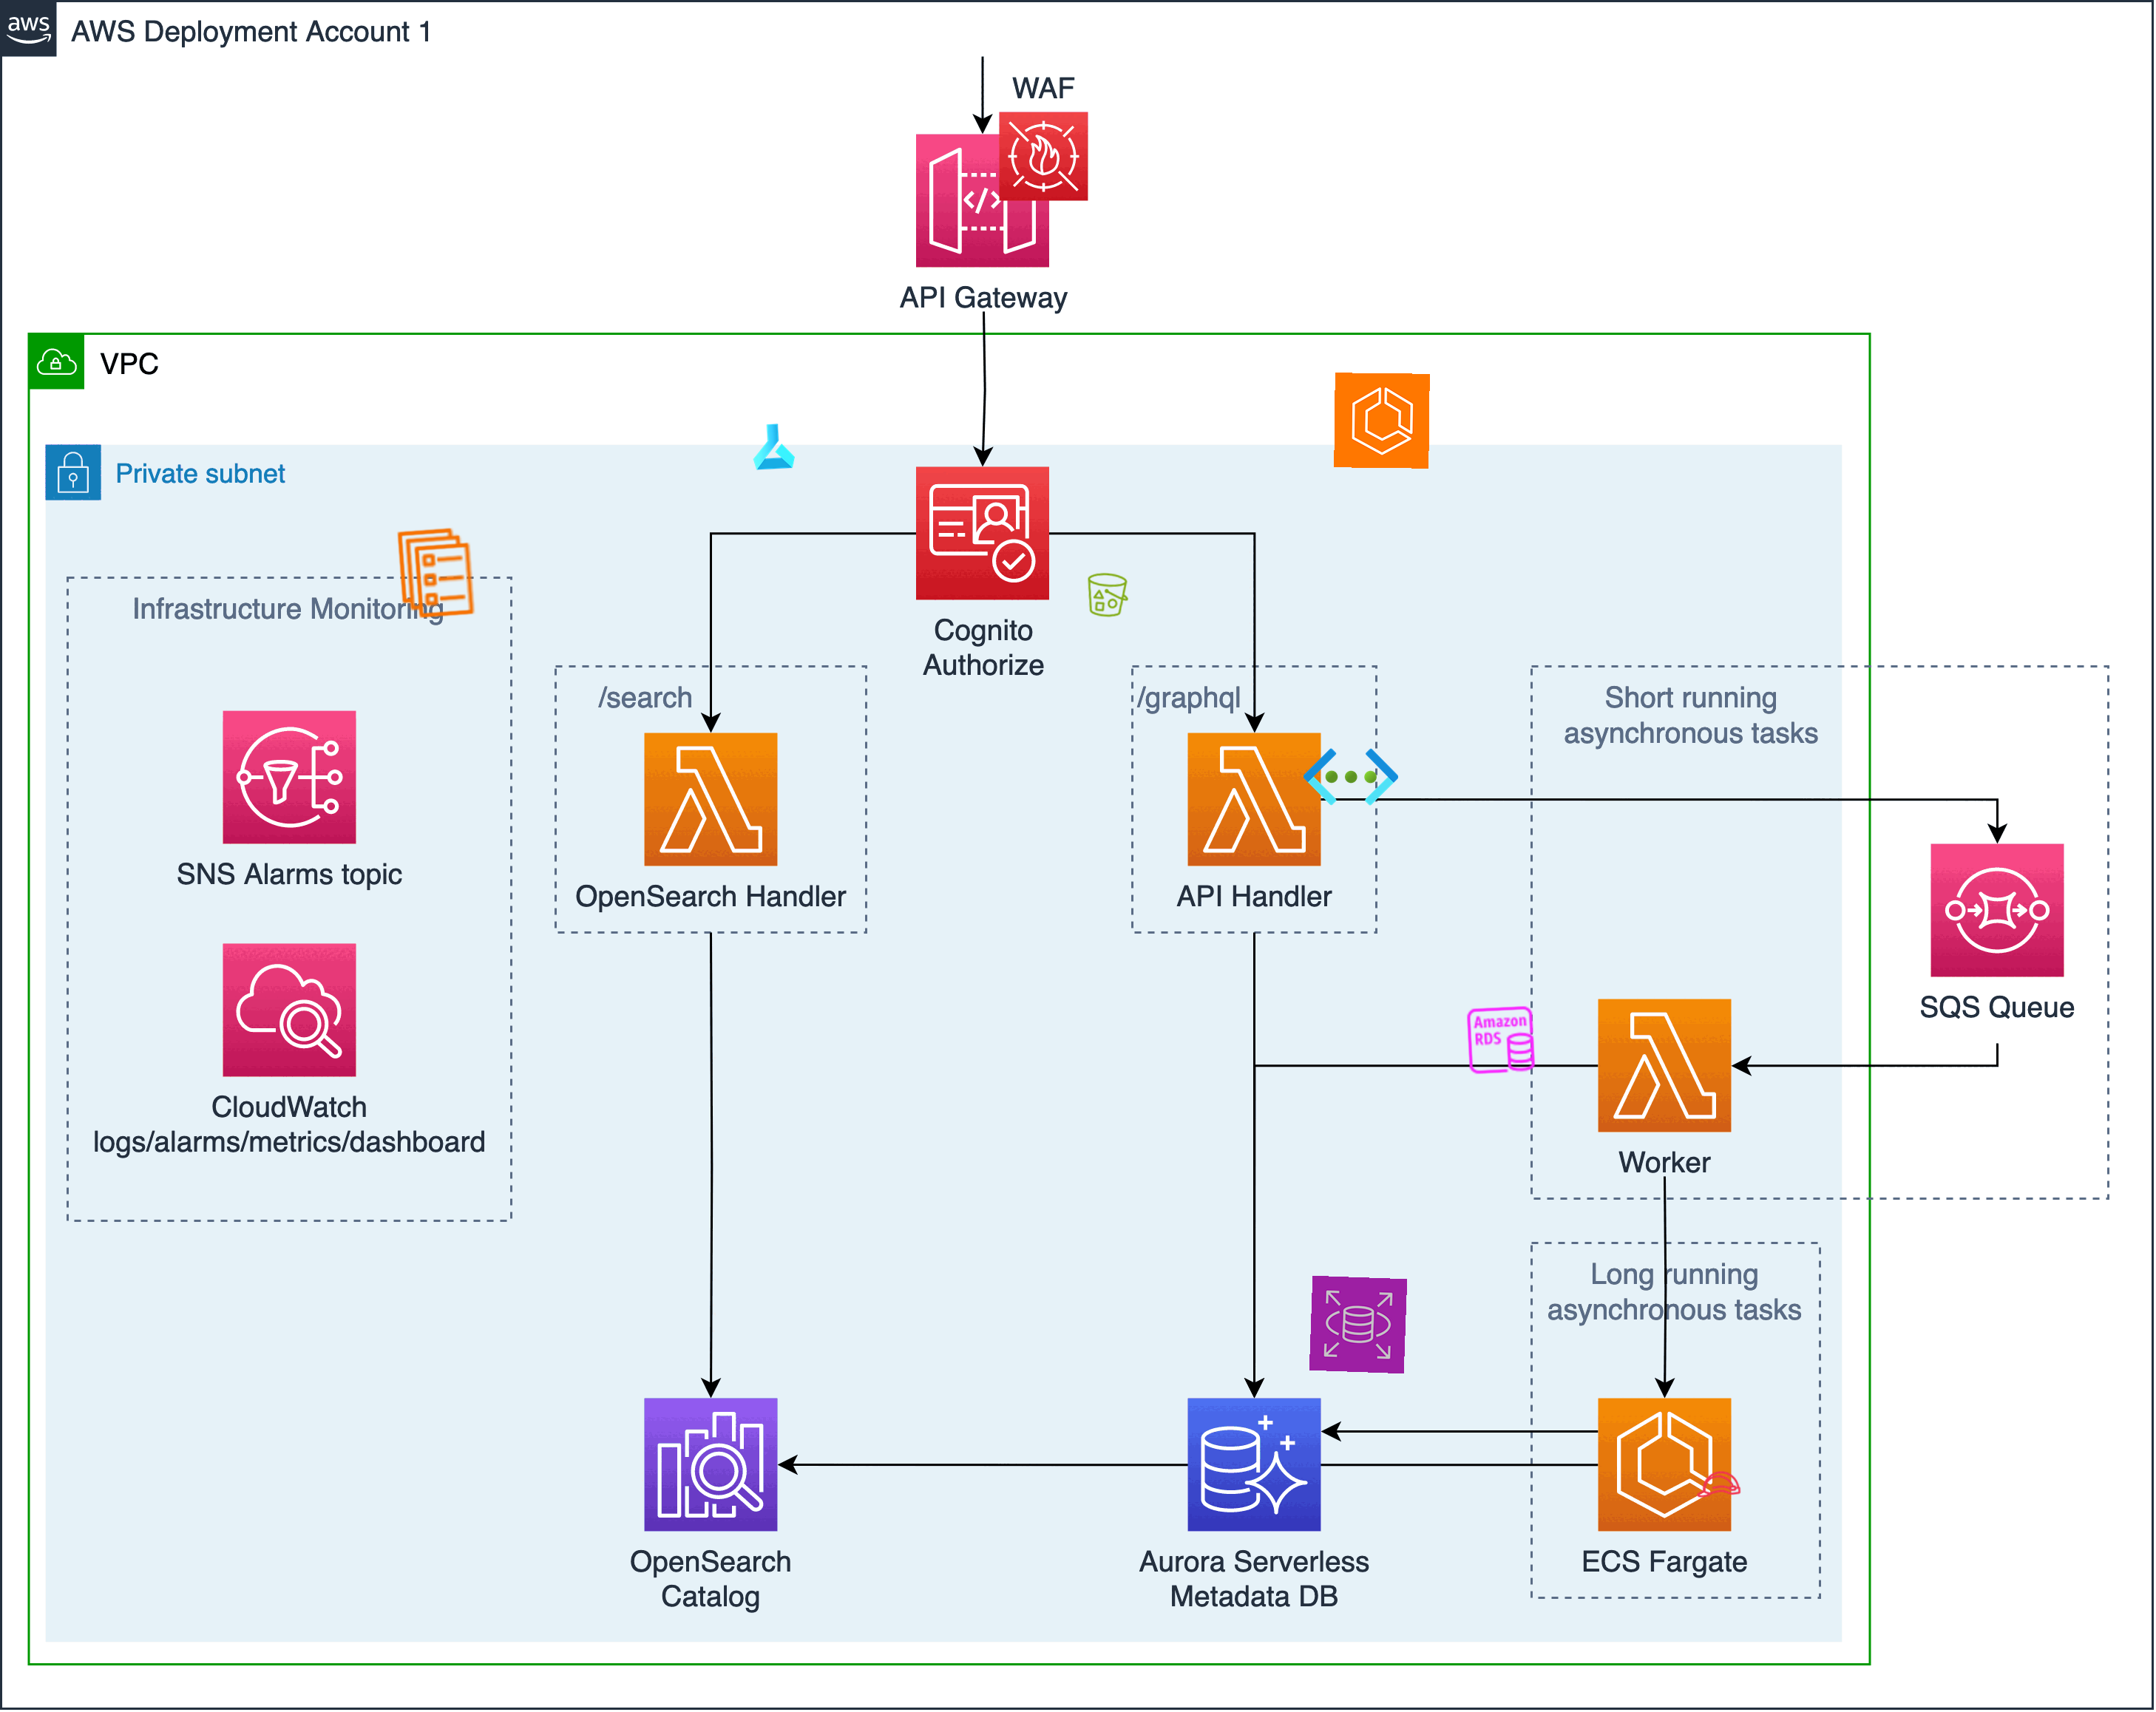aws_amazon_elastic_container_service: (1333, 372, 1430, 469)
aws_amazon_rds: (1309, 1275, 1407, 1374)
aws_aurora_amazon_rds_instance: (1463, 1002, 1538, 1077)
aws_elastic_container_service_service: (385, 521, 486, 624)
aws_identity_access_management_role: (1694, 1458, 1743, 1509)
aws_simple_storage_service_bucket_with_objects: (1081, 568, 1134, 621)
azure_machine_learning: (749, 421, 798, 472)
azure_virtual_networks: (1302, 729, 1398, 825)
